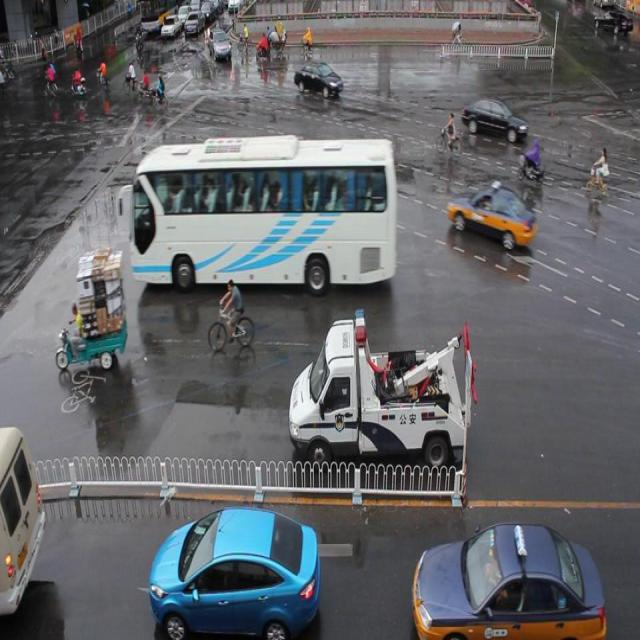bus: (288, 307, 475, 472)
car: (411, 516, 606, 640), (150, 506, 320, 640), (446, 178, 536, 252), (461, 94, 528, 144), (294, 60, 344, 99), (208, 30, 231, 62)
truck: (1, 423, 46, 625)
van: (118, 137, 396, 290)
